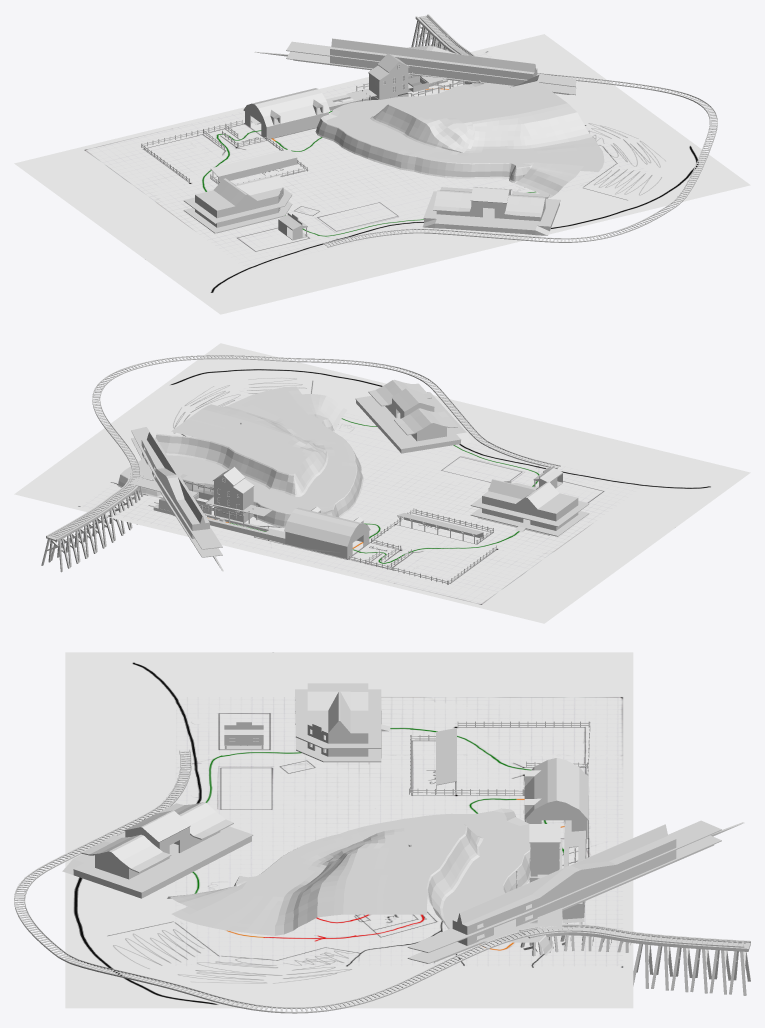
Rendered from ranch_test.fbx.
3 renders of one model, top to bottom at view 1: azimuth 30°, elevation 25°; view 2: azimuth 150°, elevation 25°; view 3: azimuth 270°, elevation 25°, orthographic. The views are drawn at different scales.
Visible parts, largest first — view 1: Map.001|016-05-06-Note-17-25|Dupli|0, Ground.001|Plane|Dupli|1, Mill.001|Cube.004|Dupli|31, Train Station.001|marv_train_main|Dupli|0, Saloon.001|Saloon|Dupli|1, Rails.001|Cube|Dupli|3, Barn.001|Cube.009|Dupli|0, Shed.001|Cube.001|Dupli|7, Mill.001|Mill|Dupli|41, Rails.001|bridge|Dupli|1, Mill.001|millPlatform|Dupli|40, bakery.001|Cube.039|Dupli|8; view 2: Map.001|016-05-06-Note-17-25|Dupli|0, Ground.001|Plane|Dupli|1, Train Station.001|marv_train_main|Dupli|0, Saloon.001|Saloon|Dupli|1, Rails.001|Cube|Dupli|3, Mill.001|Cube.004|Dupli|31, Rails.001|bridge|Dupli|1, Barn.001|Cube.009|Dupli|0, Mill.001|Mill|Dupli|41, Mill.001|Cube.017|Dupli|18, Mill.001|millPlatform|Dupli|40, Shed.001|Cube.001|Dupli|7; view 3: Map.001|016-05-06-Note-17-25|Dupli|0, Ground.001|Plane|Dupli|1, Mill.001|Cube.004|Dupli|31, Train Station.001|marv_train_main|Dupli|0, Rails.001|Cube|Dupli|3, Saloon.001|Saloon|Dupli|1, Rails.001|bridge|Dupli|1, Barn.001|Cube.009|Dupli|0, Mill.001|Mill|Dupli|41, Shed.001|Cube.001|Dupli|7, Mill.001|Cube.017|Dupli|18, bakery.001|Cube.039|Dupli|8 (+1 smaller).
Boxes of the visible parts, left/top/right/bottom form: Map.001|016-05-06-Note-17-25|Dupli|0: left=14, top=34, right=750, bottom=314; Ground.001|Plane|Dupli|1: left=315, top=75, right=604, bottom=197; Mill.001|Cube.004|Dupli|31: left=254, top=38, right=576, bottom=95; Train Station.001|marv_train_main|Dupli|0: left=422, top=187, right=560, bottom=235; Saloon.001|Saloon|Dupli|1: left=183, top=175, right=292, bottom=233; Rails.001|Cube|Dupli|3: left=323, top=16, right=717, bottom=247; Barn.001|Cube.009|Dupli|0: left=243, top=88, right=330, bottom=139; Shed.001|Cube.001|Dupli|7: left=210, top=149, right=297, bottom=183; Mill.001|Mill|Dupli|41: left=368, top=53, right=409, bottom=99; Rails.001|bridge|Dupli|1: left=411, top=14, right=475, bottom=56; Mill.001|millPlatform|Dupli|40: left=346, top=76, right=448, bottom=100; bakery.001|Cube.039|Dupli|8: left=278, top=212, right=307, bottom=240; Map.001|016-05-06-Note-17-25|Dupli|0: left=14, top=343, right=750, bottom=623; Ground.001|Plane|Dupli|1: left=117, top=386, right=363, bottom=527; Train Station.001|marv_train_main|Dupli|0: left=355, top=379, right=470, bottom=453; Saloon.001|Saloon|Dupli|1: left=470, top=479, right=589, bottom=536; Rails.001|Cube|Dupli|3: left=50, top=355, right=560, bottom=537; Mill.001|Cube.004|Dupli|31: left=131, top=427, right=223, bottom=571; Rails.001|bridge|Dupli|1: left=41, top=471, right=143, bottom=572; Barn.001|Cube.009|Dupli|0: left=284, top=506, right=370, bottom=558; Mill.001|Mill|Dupli|41: left=213, top=467, right=254, bottom=512; Mill.001|Cube.017|Dupli|18: left=148, top=497, right=339, bottom=552; Mill.001|millPlatform|Dupli|40: left=129, top=477, right=272, bottom=516; Shed.001|Cube.001|Dupli|7: left=397, top=513, right=483, bottom=538; Map.001|016-05-06-Note-17-25|Dupli|0: left=65, top=652, right=633, bottom=1008; Ground.001|Plane|Dupli|1: left=167, top=808, right=553, bottom=955; Mill.001|Cube.004|Dupli|31: left=407, top=820, right=744, bottom=963; Train Station.001|marv_train_main|Dupli|0: left=62, top=802, right=253, bottom=898; Rails.001|Cube|Dupli|3: left=14, top=750, right=745, bottom=1013; Saloon.001|Saloon|Dupli|1: left=295, top=683, right=390, bottom=762; Rails.001|bridge|Dupli|1: left=519, top=924, right=750, bottom=995; Barn.001|Cube.009|Dupli|0: left=523, top=758, right=588, bottom=837; Mill.001|Mill|Dupli|41: left=529, top=824, right=560, bottom=876; Shed.001|Cube.001|Dupli|7: left=436, top=728, right=456, bottom=794; Mill.001|Cube.017|Dupli|18: left=562, top=820, right=586, bottom=924; bakery.001|Cube.039|Dupli|8: left=224, top=722, right=263, bottom=749.
Size of the model in its own units: 818 by 99.9 by 670.
1 material, 1 textured.
